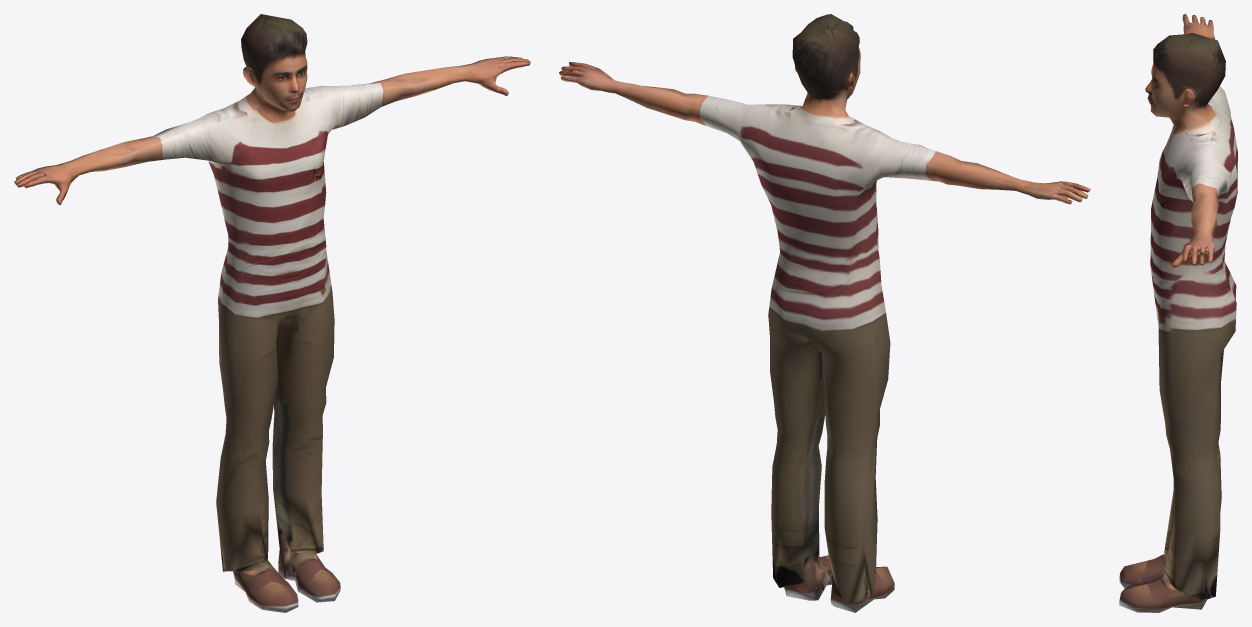
The model's file is _0803044852_texture.fbx.
3 views of the same model, side by side, from view 1: azimuth 30°, elevation 25°; view 2: azimuth 150°, elevation 25°; view 3: azimuth 270°, elevation 25° (orthographic). The views are drawn at different scales.
Visible parts, largest first — view 1: SubMesh_0; view 2: SubMesh_0; view 3: SubMesh_0.
Part boxes in pixels (x1=…): SubMesh_0: x1=14, y1=14, x2=530, y2=612; SubMesh_0: x1=559, y1=14, x2=1090, y2=612; SubMesh_0: x1=1119, y1=14, x2=1237, y2=612.
Size of the model in its own units: 190 by 200 by 38.53.
1 material, 1 textured.
